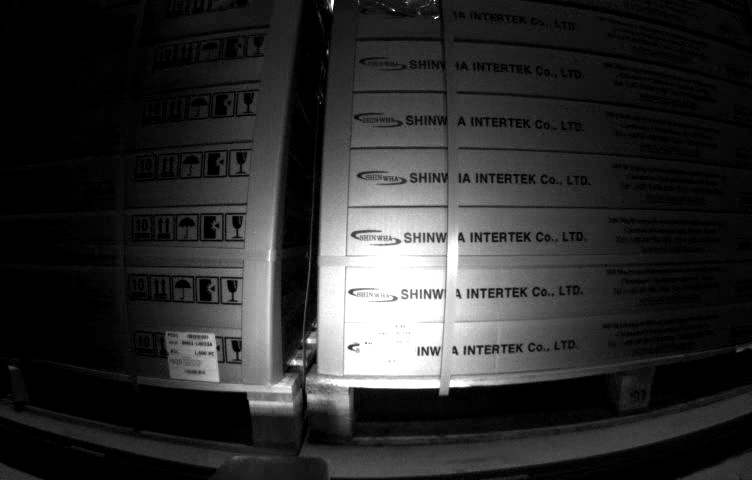True Barcode: (162, 331, 222, 383), (361, 321, 417, 373)
